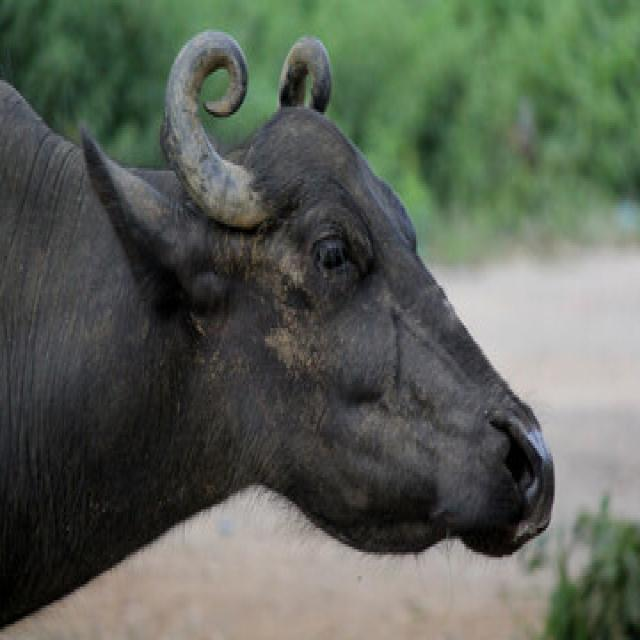Buffalo: (0, 22, 558, 638)
